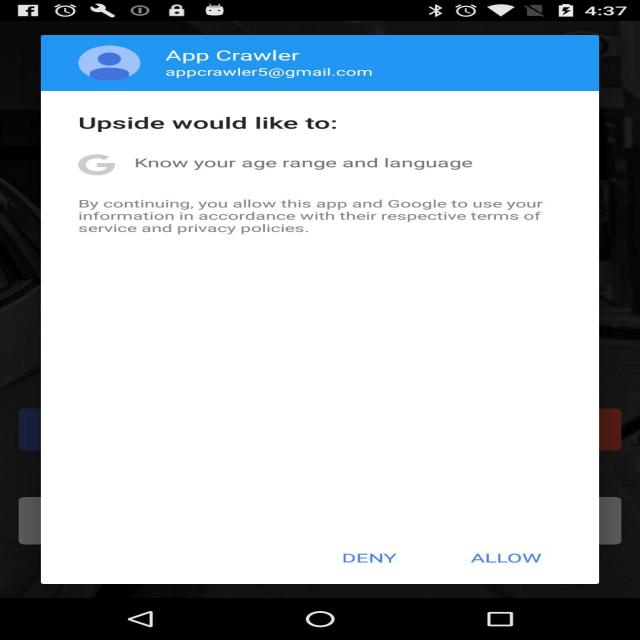button: (100, 539, 562, 631)
text: (68, 103, 568, 266), (158, 42, 421, 99)
